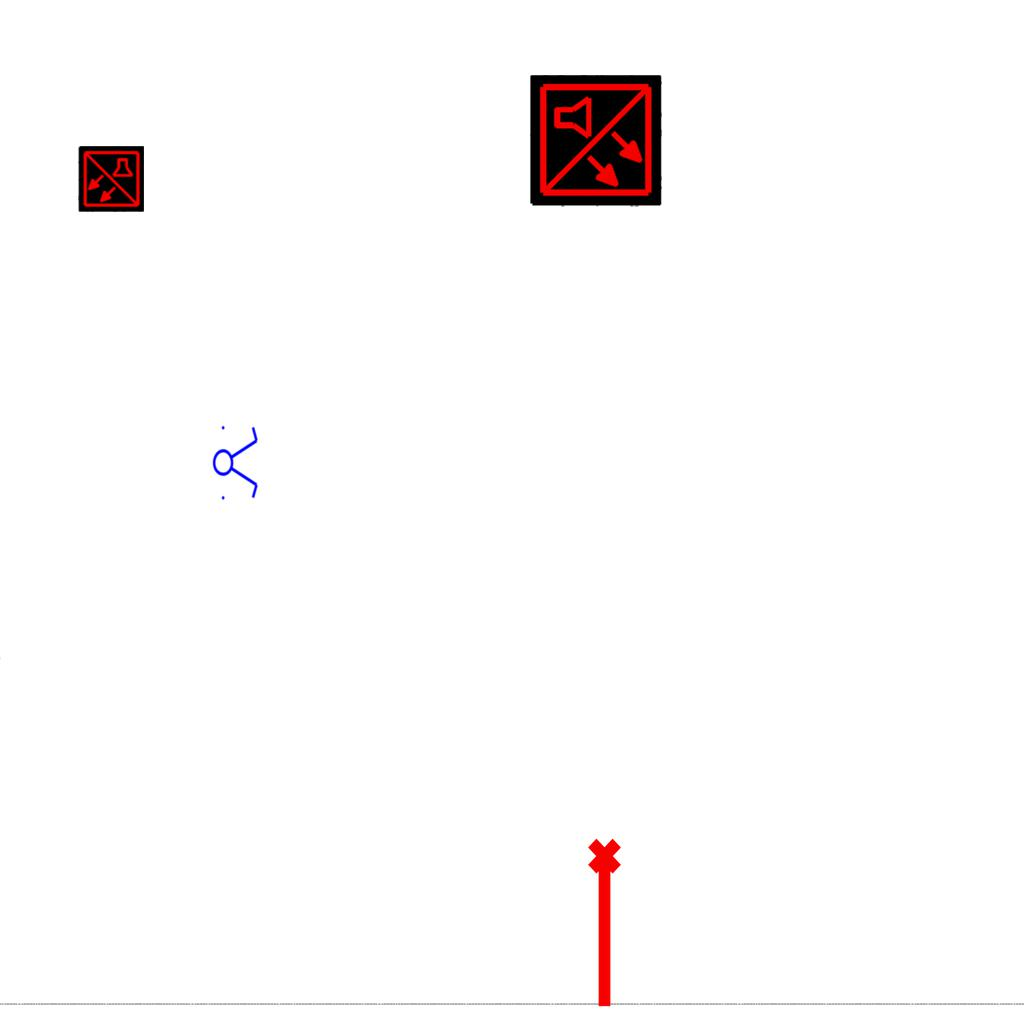ASR_Ansaugoeffnung: (584, 836, 630, 1012)
OKW_Multisensormelder_(Kombination_optischer_Rauch-Kahlenmonoxid_Waerme-Melder): (530, 75, 662, 207), (78, 146, 144, 212)
Serienschalter: (212, 420, 260, 504)
